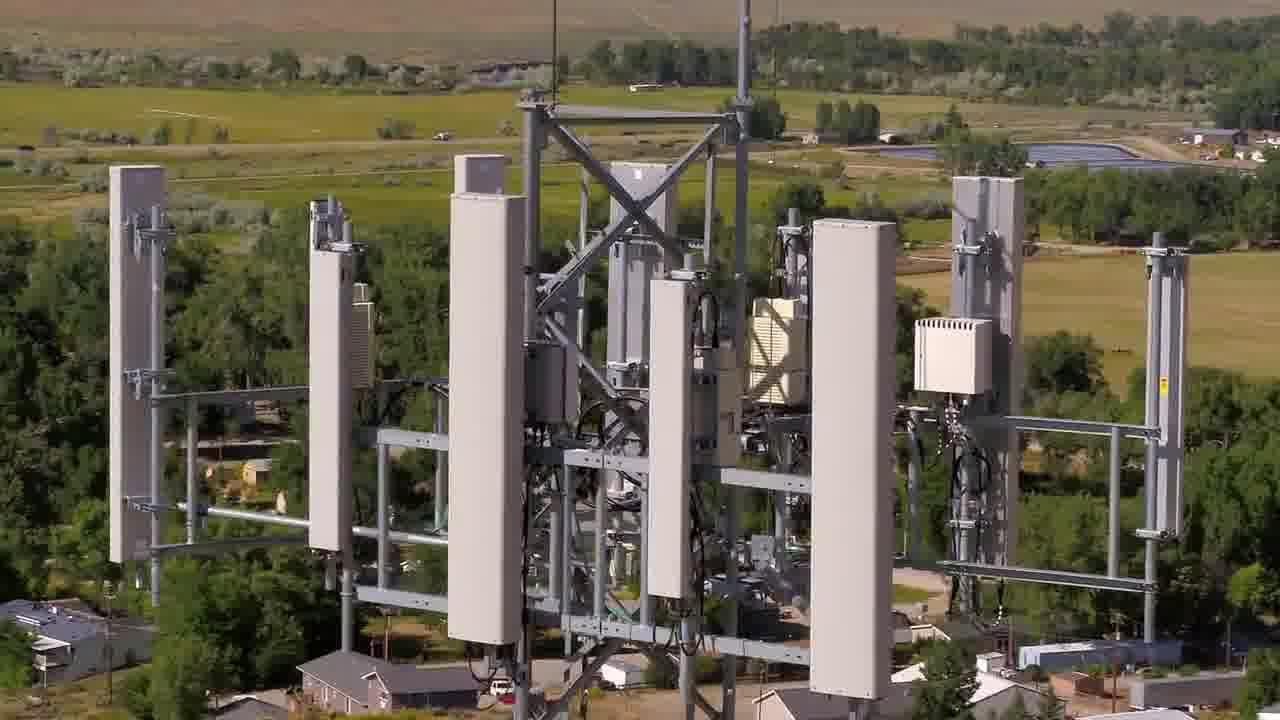antenna: (806, 201, 909, 708), (442, 172, 546, 657), (611, 287, 713, 618), (92, 153, 170, 574), (939, 173, 1018, 495), (449, 141, 538, 367), (1135, 221, 1188, 564), (303, 240, 360, 558)
